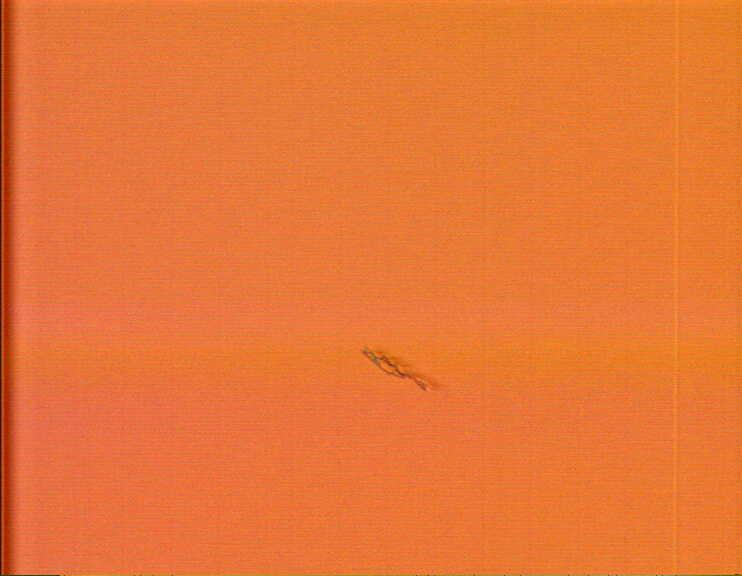PIQ PARTICLE: (354, 338, 438, 403)
